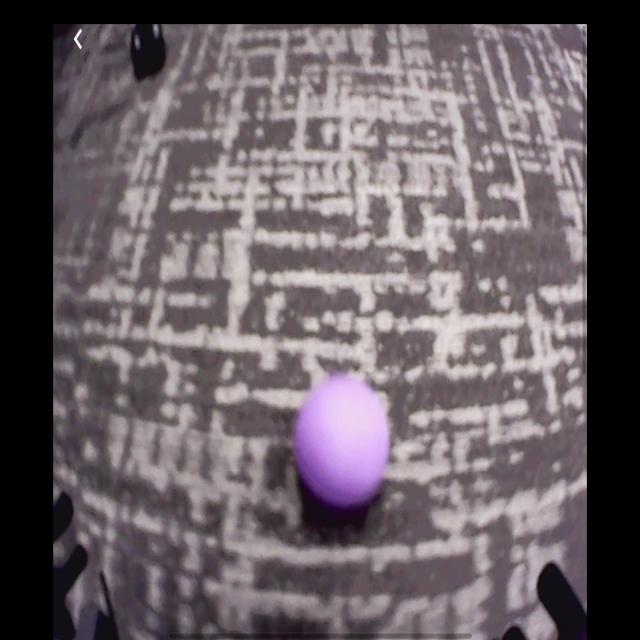ball: (292, 374, 394, 514)
